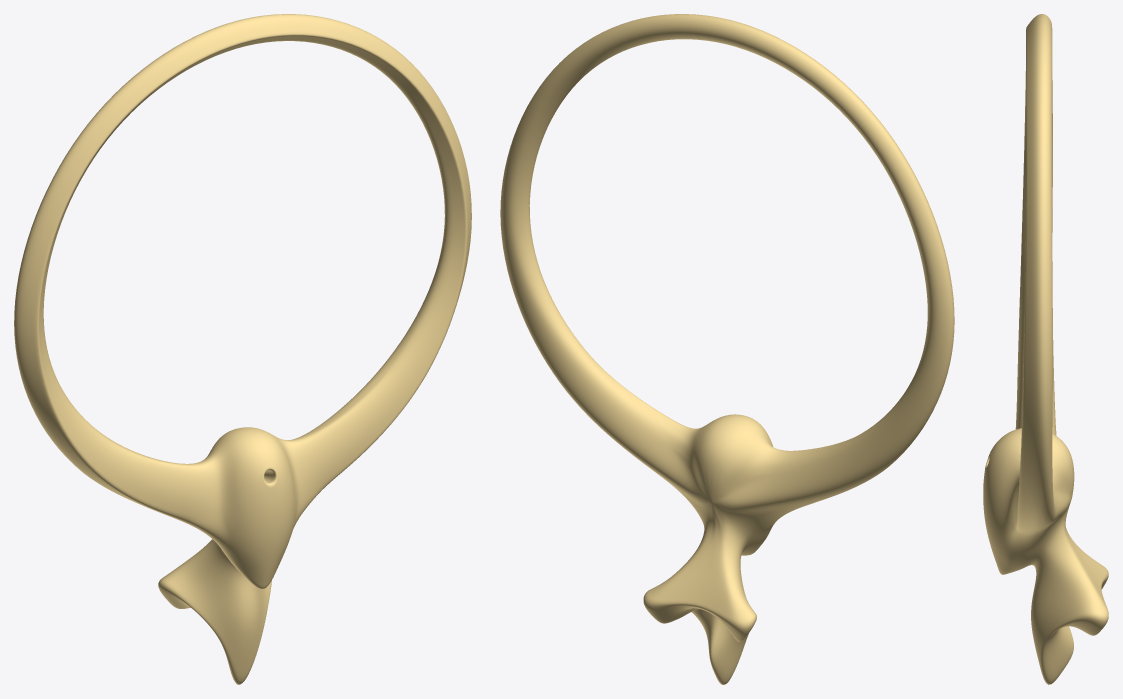
Rendered from satori-3.glb.
The picture shows the model from 3 angles, left to right: view 1: azimuth 30°, elevation 25°; view 2: azimuth 150°, elevation 25°; view 3: azimuth 270°, elevation 25°; orthographic projection. The views are drawn at different scales.
Parts seen in each view (by area): view 1: Box819; view 2: Box819; view 3: Box819.
Boxes of the visible parts, <box> form: Box819: <box>14,14,471,684</box>; Box819: <box>500,14,954,684</box>; Box819: <box>983,14,1108,684</box>.
Bounding box in the file's own units: 0.0403 × 0.0564 × 0.0099.
